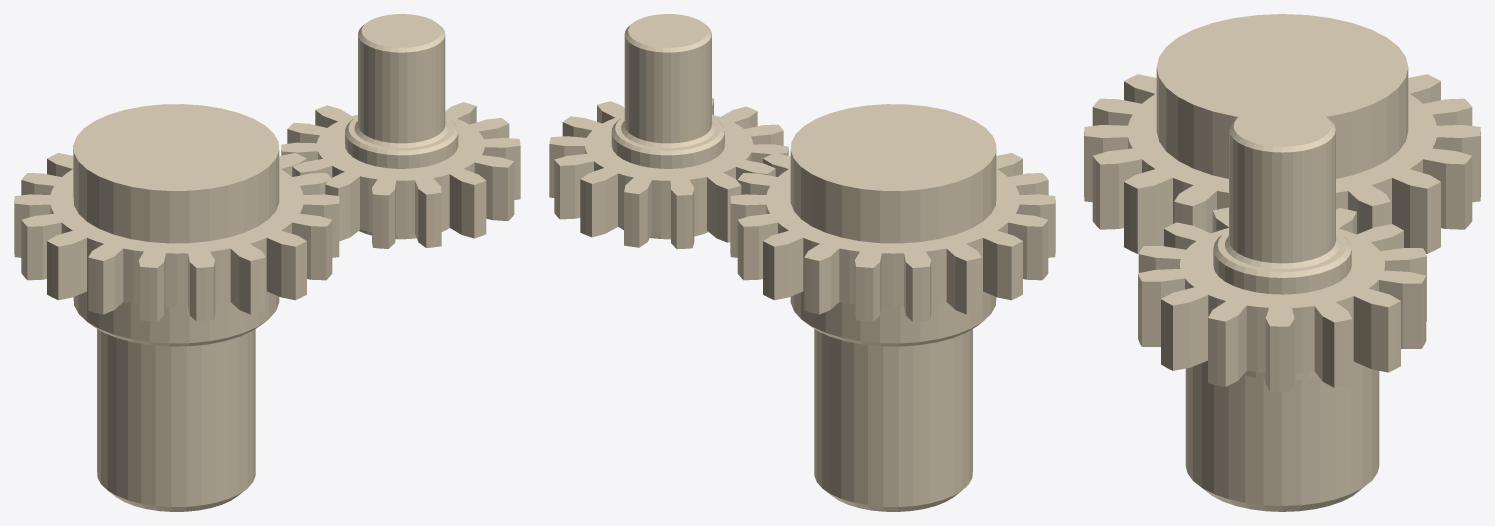
File: spur_gear.glb
3 renders of one model, left to right at view 1: azimuth 30°, elevation 25°; view 2: azimuth 150°, elevation 25°; view 3: azimuth 270°, elevation 25°, orthographic. The views are drawn at different scales.
Visible parts, largest first — view 1: Gear.003, Gear.005; view 2: Gear.003, Gear.005; view 3: Gear.003, Gear.005.
Boxes of the visible parts, x1,y1,x2,y2 form: Gear.003: (14, 104, 339, 511); Gear.005: (281, 14, 520, 248); Gear.003: (730, 104, 1055, 511); Gear.005: (549, 14, 788, 249); Gear.003: (1084, 14, 1480, 511); Gear.005: (1138, 105, 1426, 391).
Size of the model in its own units: 3.65 by 2.96 by 2.2.
